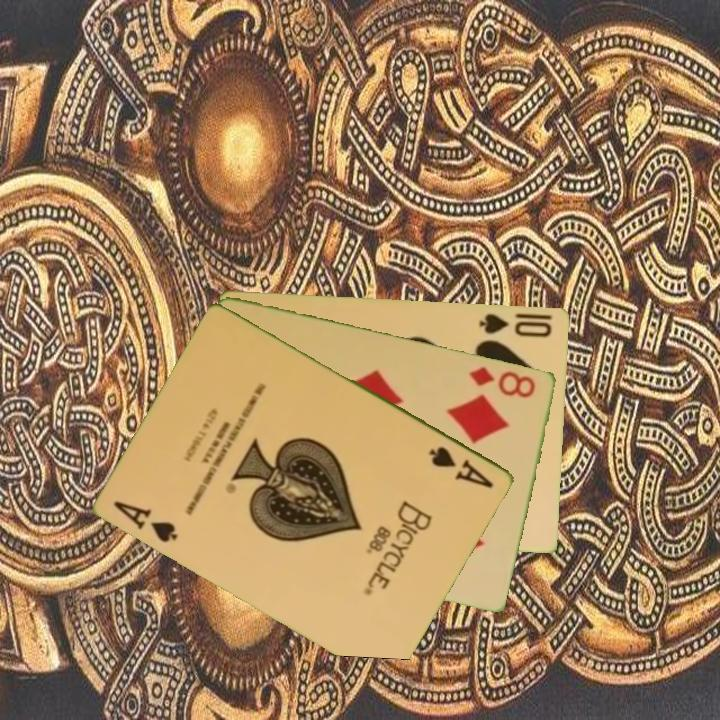10s: (476, 310, 555, 340)
8d: (466, 362, 539, 401)
As: (111, 496, 182, 546), (425, 442, 497, 491)
